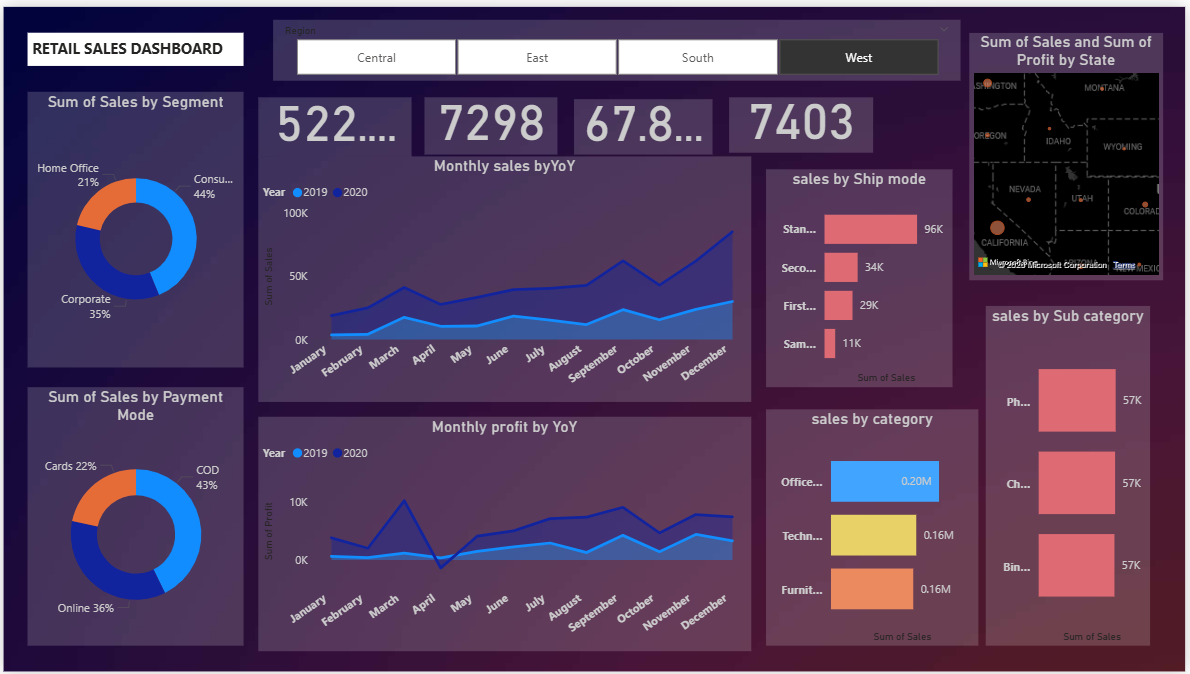

The page's visual inventory and layout, read from the dashboard file:
{"tool":"powerbi","page":{"name":"Page 1","canvas":[1280,720],"ordinal":0},"visuals":[{"type":"clusteredBarChart","title":"sales by category","fields":{"Category":["SuperStore Sales.Category"],"Y":["Sum(SuperStore Sales.Sales)"]},"box":[826,436,230,256],"z":0},{"type":"clusteredBarChart","title":"sales by Sub category","fields":{"Category":["SuperStore Sales.Sub-Category","SuperStore Sales.Category"],"Y":["Sum(SuperStore Sales.Sales)"]},"box":[1064,324,178,368],"z":1000},{"type":"clusteredBarChart","title":"sales by Ship mode","fields":{"Category":["SuperStore Sales.Ship Mode","SuperStore Sales.Sub-Category","SuperStore Sales.Category"],"Y":["Sum(SuperStore Sales.Sales)"]},"box":[826,176,202,236],"z":2000},{"type":"stackedAreaChart","title":"Monthly  sales byYoY","fields":{"Y":["Sum(SuperStore Sales.Sales)"],"Series":["SuperStore Sales.Order Date.Variation.Date Hierarchy.Year"],"Category":["SuperStore Sales.Order Date.Variation.Date Hierarchy.Month","SuperStore Sales.Order Date.Variation.Date Hierarchy.Day"]},"box":[276,162,534,266],"z":3000},{"type":"stackedAreaChart","title":"Monthly  profit by YoY","fields":{"Series":["SuperStore Sales.Order Date.Variation.Date Hierarchy.Year"],"Category":["SuperStore Sales.Order Date.Variation.Date Hierarchy.Month","SuperStore Sales.Order Date.Variation.Date Hierarchy.Day"],"Y":["Sum(SuperStore Sales.Profit)"]},"box":[276,444,534,254],"z":4000},{"type":"map","fields":{"Category":["SuperStore Sales.State"],"Size":["Sum(SuperStore Sales.Sales)"]},"box":[1046,28,210,268],"z":5000},{"type":"donutChart","fields":{"Category":["SuperStore Sales.Segment"],"Y":["Sum(SuperStore Sales.Sales)"]},"box":[32,146,214,266],"z":6000},{"type":"donutChart","fields":{"Category":["SuperStore Sales.Payment Mode"],"Y":["Sum(SuperStore Sales.Sales)"]},"box":[26,428,220,270],"z":7000},{"type":"slicer","fields":{"Values":["SuperStore Sales.Region"]},"box":[32,14,794,68],"z":8000},{"type":"card","fields":{"Values":["Sum(SuperStore Sales.Sales)"]},"box":[276,98,166,64],"z":9001},{"type":"card","fields":{"Values":["Sum(SuperStore Sales.Quantity)"]},"box":[456,98,144,62],"z":9002},{"type":"card","fields":{"Values":["Sum(SuperStore Sales.Profit)"]},"box":[618,100,150,60],"z":9003},{"type":"card","fields":{"Values":["Sum(SuperStore Sales.AvgDelivery)"]},"box":[786,98,156,60],"z":9004}]}

Visuals, with their boxes in screenshot pixels (x1, y1, x2, y2), scaled from the page's 1280x720 canvas onto the 1190x674 screenshot:
"sales by category" clusteredBarChart: box=[768, 408, 982, 648]
"sales by Sub category" clusteredBarChart: box=[989, 303, 1155, 648]
"sales by Ship mode" clusteredBarChart: box=[768, 165, 956, 386]
"Monthly  sales byYoY" stackedAreaChart: box=[257, 152, 753, 401]
"Monthly  profit by YoY" stackedAreaChart: box=[257, 416, 753, 653]
map - SuperStore Sales.State x Sum(SuperStore Sales.Sales): box=[972, 26, 1168, 277]
donutChart - SuperStore Sales.Segment x Sum(SuperStore Sales.Sales): box=[30, 137, 229, 386]
donutChart - SuperStore Sales.Payment Mode x Sum(SuperStore Sales.Sales): box=[24, 401, 229, 653]
slicer - SuperStore Sales.Region: box=[30, 13, 768, 77]
card - Sum(SuperStore Sales.Sales): box=[257, 92, 411, 152]
card - Sum(SuperStore Sales.Quantity): box=[424, 92, 558, 150]
card - Sum(SuperStore Sales.Profit): box=[575, 94, 714, 150]
card - Sum(SuperStore Sales.AvgDelivery): box=[731, 92, 876, 148]
